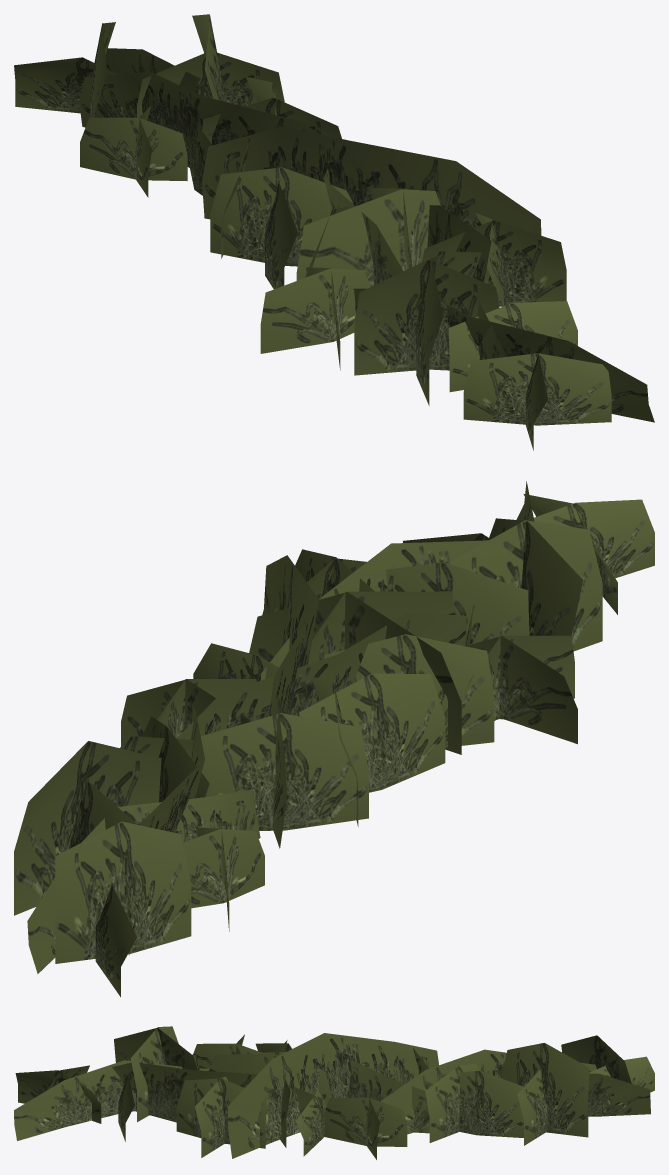
Rendered from SM_Grass_big_clump_D.fbx.
3 renders of one model, top to bottom at view 1: azimuth 30°, elevation 25°; view 2: azimuth 150°, elevation 25°; view 3: azimuth 270°, elevation 25°, orthographic. The views are drawn at different scales.
Parts seen in each view (by area): view 1: SM_Grass_big_clump_D; view 2: SM_Grass_big_clump_D; view 3: SM_Grass_big_clump_D.
Boxes of the visible parts, <box> form: SM_Grass_big_clump_D: <box>14,14,654,450</box>; SM_Grass_big_clump_D: <box>14,481,654,997</box>; SM_Grass_big_clump_D: <box>14,1026,654,1159</box>.
Bounding box in the file's own units: 92.82 × 42.02 × 279.
